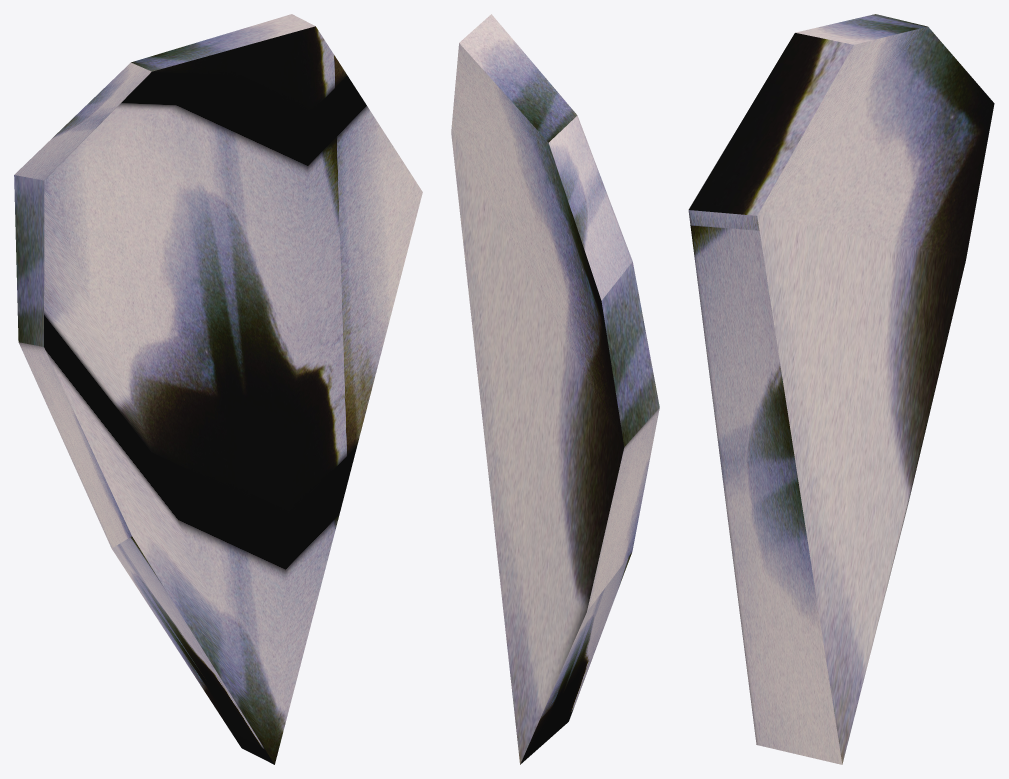
File: etudiant3.gltf
The picture shows the model from 3 angles, left to right: view 1: azimuth 30°, elevation 25°; view 2: azimuth 150°, elevation 25°; view 3: azimuth 270°, elevation 25°; orthographic projection. The views are drawn at different scales.
Visible parts, largest first — view 1: etudiant3; view 2: etudiant3; view 3: etudiant3.
Part boxes in pixels (<box>): etudiant3: <box>14,14,422,764</box>; etudiant3: <box>451,14,659,764</box>; etudiant3: <box>688,14,994,764</box>.
Bounding box in the file's own units: 13.63 × 33.89 × 12.39.
1 material, 1 textured.
